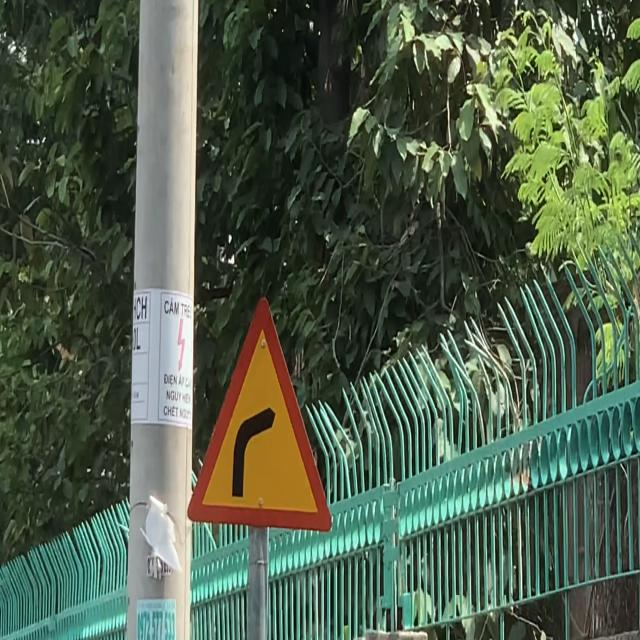Nguy hiem: (183, 290, 334, 537)
